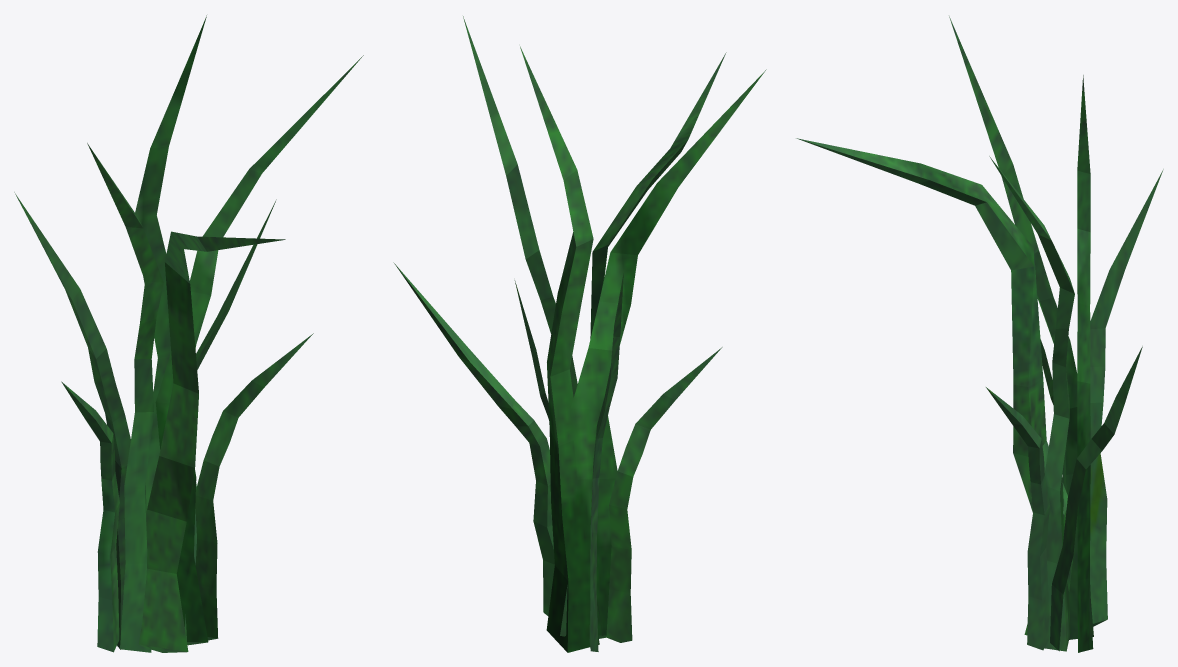
Rendered from SM_plant03.fbx.
The picture shows the model from 3 angles, left to right: view 1: azimuth 30°, elevation 25°; view 2: azimuth 150°, elevation 25°; view 3: azimuth 270°, elevation 25°; orthographic projection. The views are drawn at different scales.
Visible parts, largest first — view 1: Plane.010; view 2: Plane.010; view 3: Plane.010.
Part boxes in pixels (x1,y1,x2,y2): Plane.010: (14, 15, 363, 652); Plane.010: (393, 16, 766, 652); Plane.010: (796, 16, 1163, 652).
Size of the model in its own units: 59.88 by 119 by 66.16.
